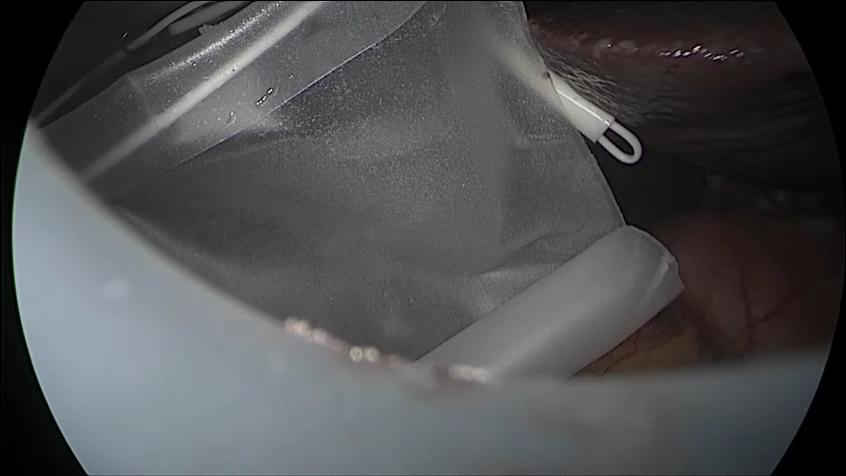SpecimenBag: (187, 8, 703, 353)
